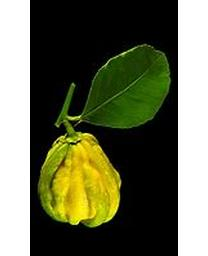lemon: (39, 133, 122, 227)
